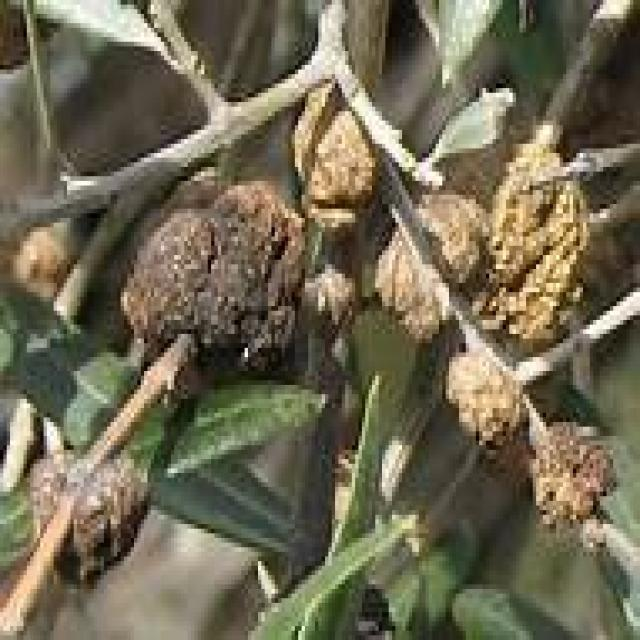Tuberculosis: (116, 181, 302, 371), (462, 144, 590, 348), (30, 452, 144, 592), (295, 79, 372, 232), (528, 408, 610, 527), (446, 352, 520, 460), (376, 255, 446, 338)
